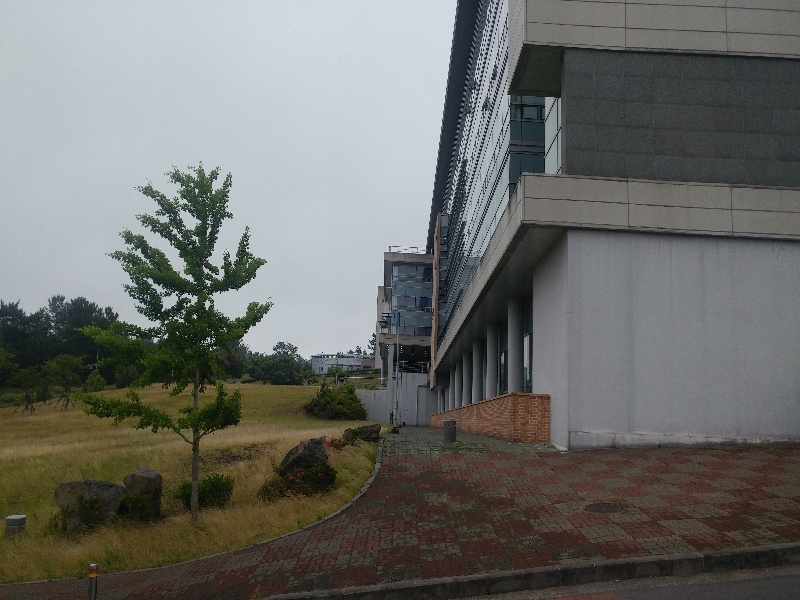College of Marine Science: (311, 354, 370, 378)
Engineering College Building 4: (377, 1, 800, 436)
